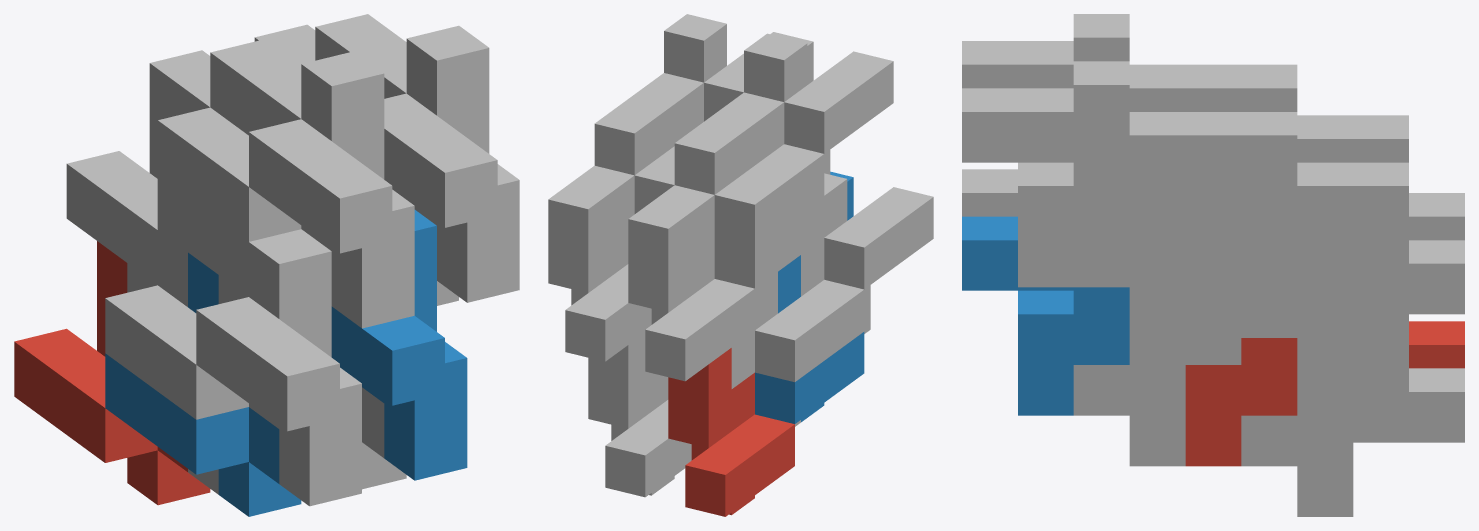
File: tiling.obj
3 renders of one model, left to right at view 1: azimuth 30°, elevation 25°; view 2: azimuth 150°, elevation 25°; view 3: azimuth 270°, elevation 25°, orthographic. The views are drawn at different scales.
Parts seen in each view (by area): view 1: copy_2_domain_4, copy_2_domain_2, copy_2_domain_8, copy_2_domain_6, copy_1_domain_1, copy_2_domain_3, copy_1_domain_2, copy_2_domain_1, copy_1_domain_3, copy_1_domain_4, copy_1_domain_6, copy_2_domain_7 (+2 smaller); view 2: copy_1_domain_3, copy_1_domain_1, copy_2_domain_4, copy_2_domain_3, copy_1_domain_7, copy_1_domain_5, copy_2_domain_2, copy_2_domain_1, copy_2_domain_8, copy_2_domain_7, copy_1_domain_4, copy_1_domain_2 (+1 smaller); view 3: copy_2_domain_8, copy_1_domain_7, copy_1_domain_5, copy_2_domain_7, copy_1_domain_8, copy_2_domain_6, copy_1_domain_6, copy_2_domain_4, copy_2_domain_5, copy_2_domain_3, copy_1_domain_3, copy_1_domain_4 (+2 smaller).
Part boxes in pixels (x1,y1,x2,y2): copy_2_domain_4: (249, 51, 414, 328); copy_2_domain_2: (196, 229, 361, 506); copy_2_domain_8: (380, 25, 519, 302); copy_2_domain_6: (331, 210, 467, 480); copy_1_domain_1: (14, 241, 210, 505); copy_2_domain_3: (157, 39, 301, 241); copy_1_domain_2: (105, 252, 301, 516); copy_2_domain_1: (105, 230, 248, 494); copy_1_domain_3: (66, 50, 210, 284); copy_1_domain_4: (157, 62, 301, 296); copy_1_domain_6: (362, 387, 406, 489); copy_2_domain_7: (289, 14, 397, 67); copy_1_domain_3: (628, 202, 754, 381); copy_1_domain_1: (668, 348, 794, 516); copy_2_domain_4: (721, 33, 893, 174); copy_2_domain_3: (652, 126, 824, 253); copy_1_domain_7: (548, 182, 651, 361); copy_1_domain_5: (588, 333, 691, 497); copy_2_domain_2: (801, 173, 933, 333); copy_2_domain_1: (731, 272, 864, 426); copy_2_domain_8: (641, 14, 813, 138); copy_2_domain_7: (571, 107, 674, 233); copy_1_domain_4: (698, 109, 824, 288); copy_1_domain_2: (755, 255, 864, 423); copy_2_domain_8: (962, 61, 1185, 287); copy_1_domain_7: (1241, 162, 1464, 388); copy_1_domain_5: (1241, 314, 1464, 516); copy_2_domain_7: (1185, 112, 1353, 337); copy_1_domain_8: (1073, 112, 1241, 337); copy_2_domain_6: (962, 216, 1129, 415); copy_1_domain_6: (1073, 338, 1241, 466); copy_2_domain_4: (962, 14, 1185, 111); copy_2_domain_5: (1185, 338, 1297, 466); copy_2_domain_3: (1241, 64, 1353, 162); copy_1_domain_3: (1353, 115, 1464, 240); copy_1_domain_4: (1185, 64, 1241, 111).
Size of the model in its own units: 5 by 9 by 9.
